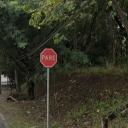Pare: (40, 48, 57, 68)
